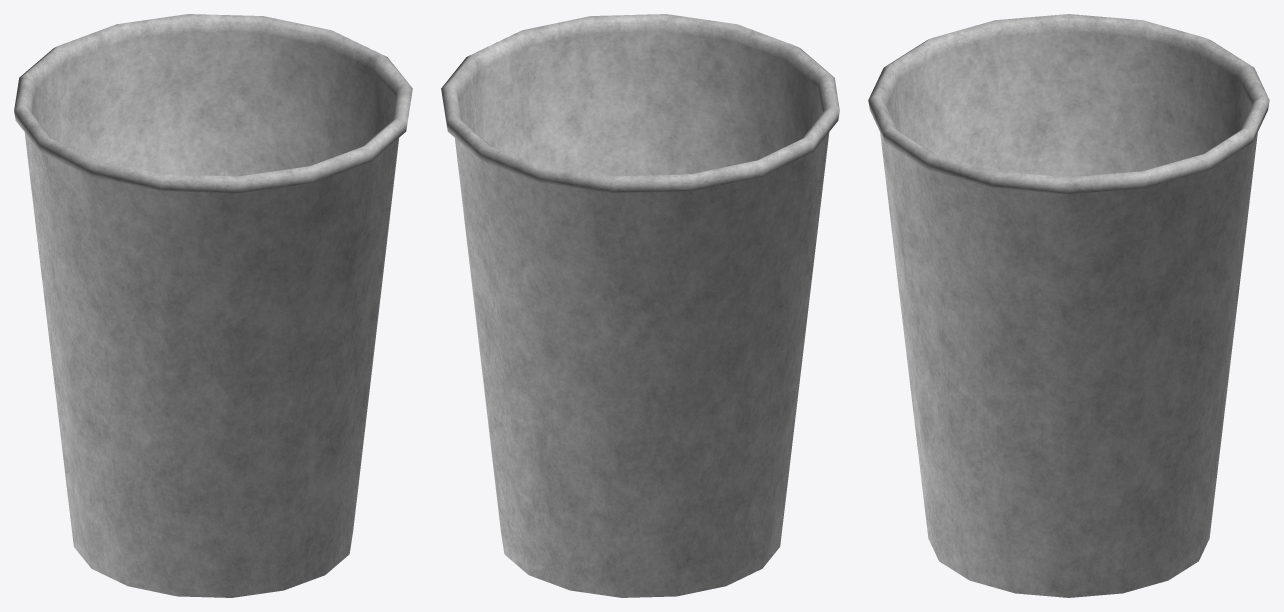
File: cup.fbx
The picture shows the model from 3 angles, left to right: view 1: azimuth 30°, elevation 25°; view 2: azimuth 150°, elevation 25°; view 3: azimuth 270°, elevation 25°; orthographic projection.
Visible parts, largest first — view 1: checkerd cup low poly; view 2: checkerd cup low poly; view 3: checkerd cup low poly.
Part boxes in pixels (x1,y1,x2,y2): checkerd cup low poly: (14,14,412,597); checkerd cup low poly: (441,14,839,597); checkerd cup low poly: (868,14,1269,597).
Bounding box in the file's own units: 273 × 332 × 273.
